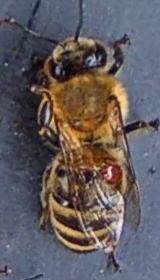varroa_mite: (96, 155, 122, 190)
